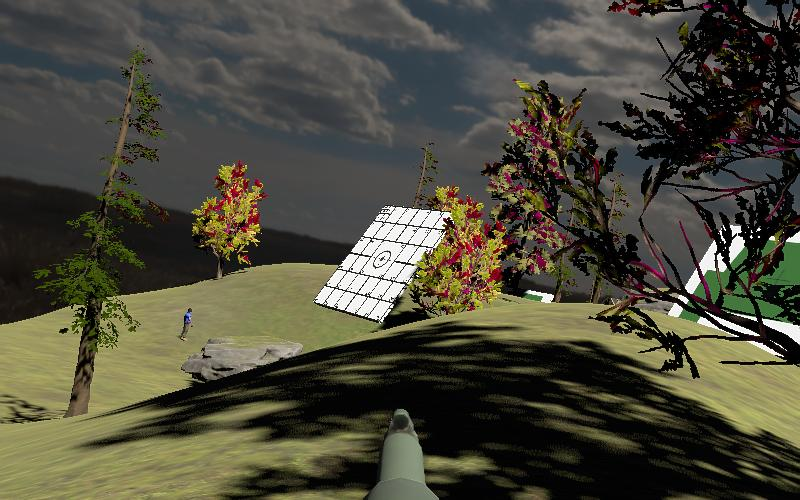Human: (176, 304, 196, 343)
